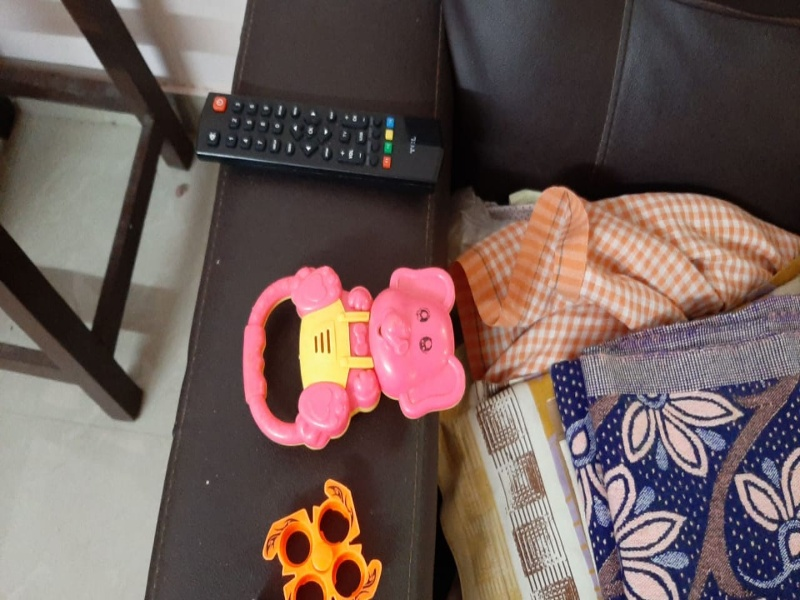remote: (189, 83, 450, 195)
